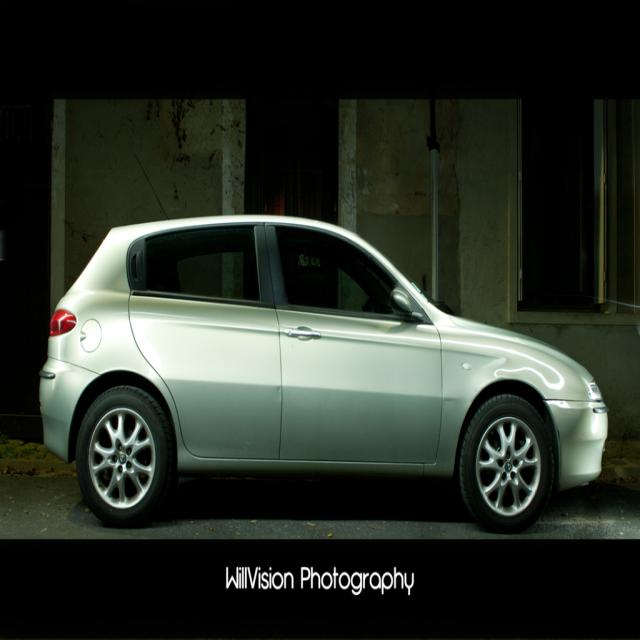car: (40, 211, 608, 528)
